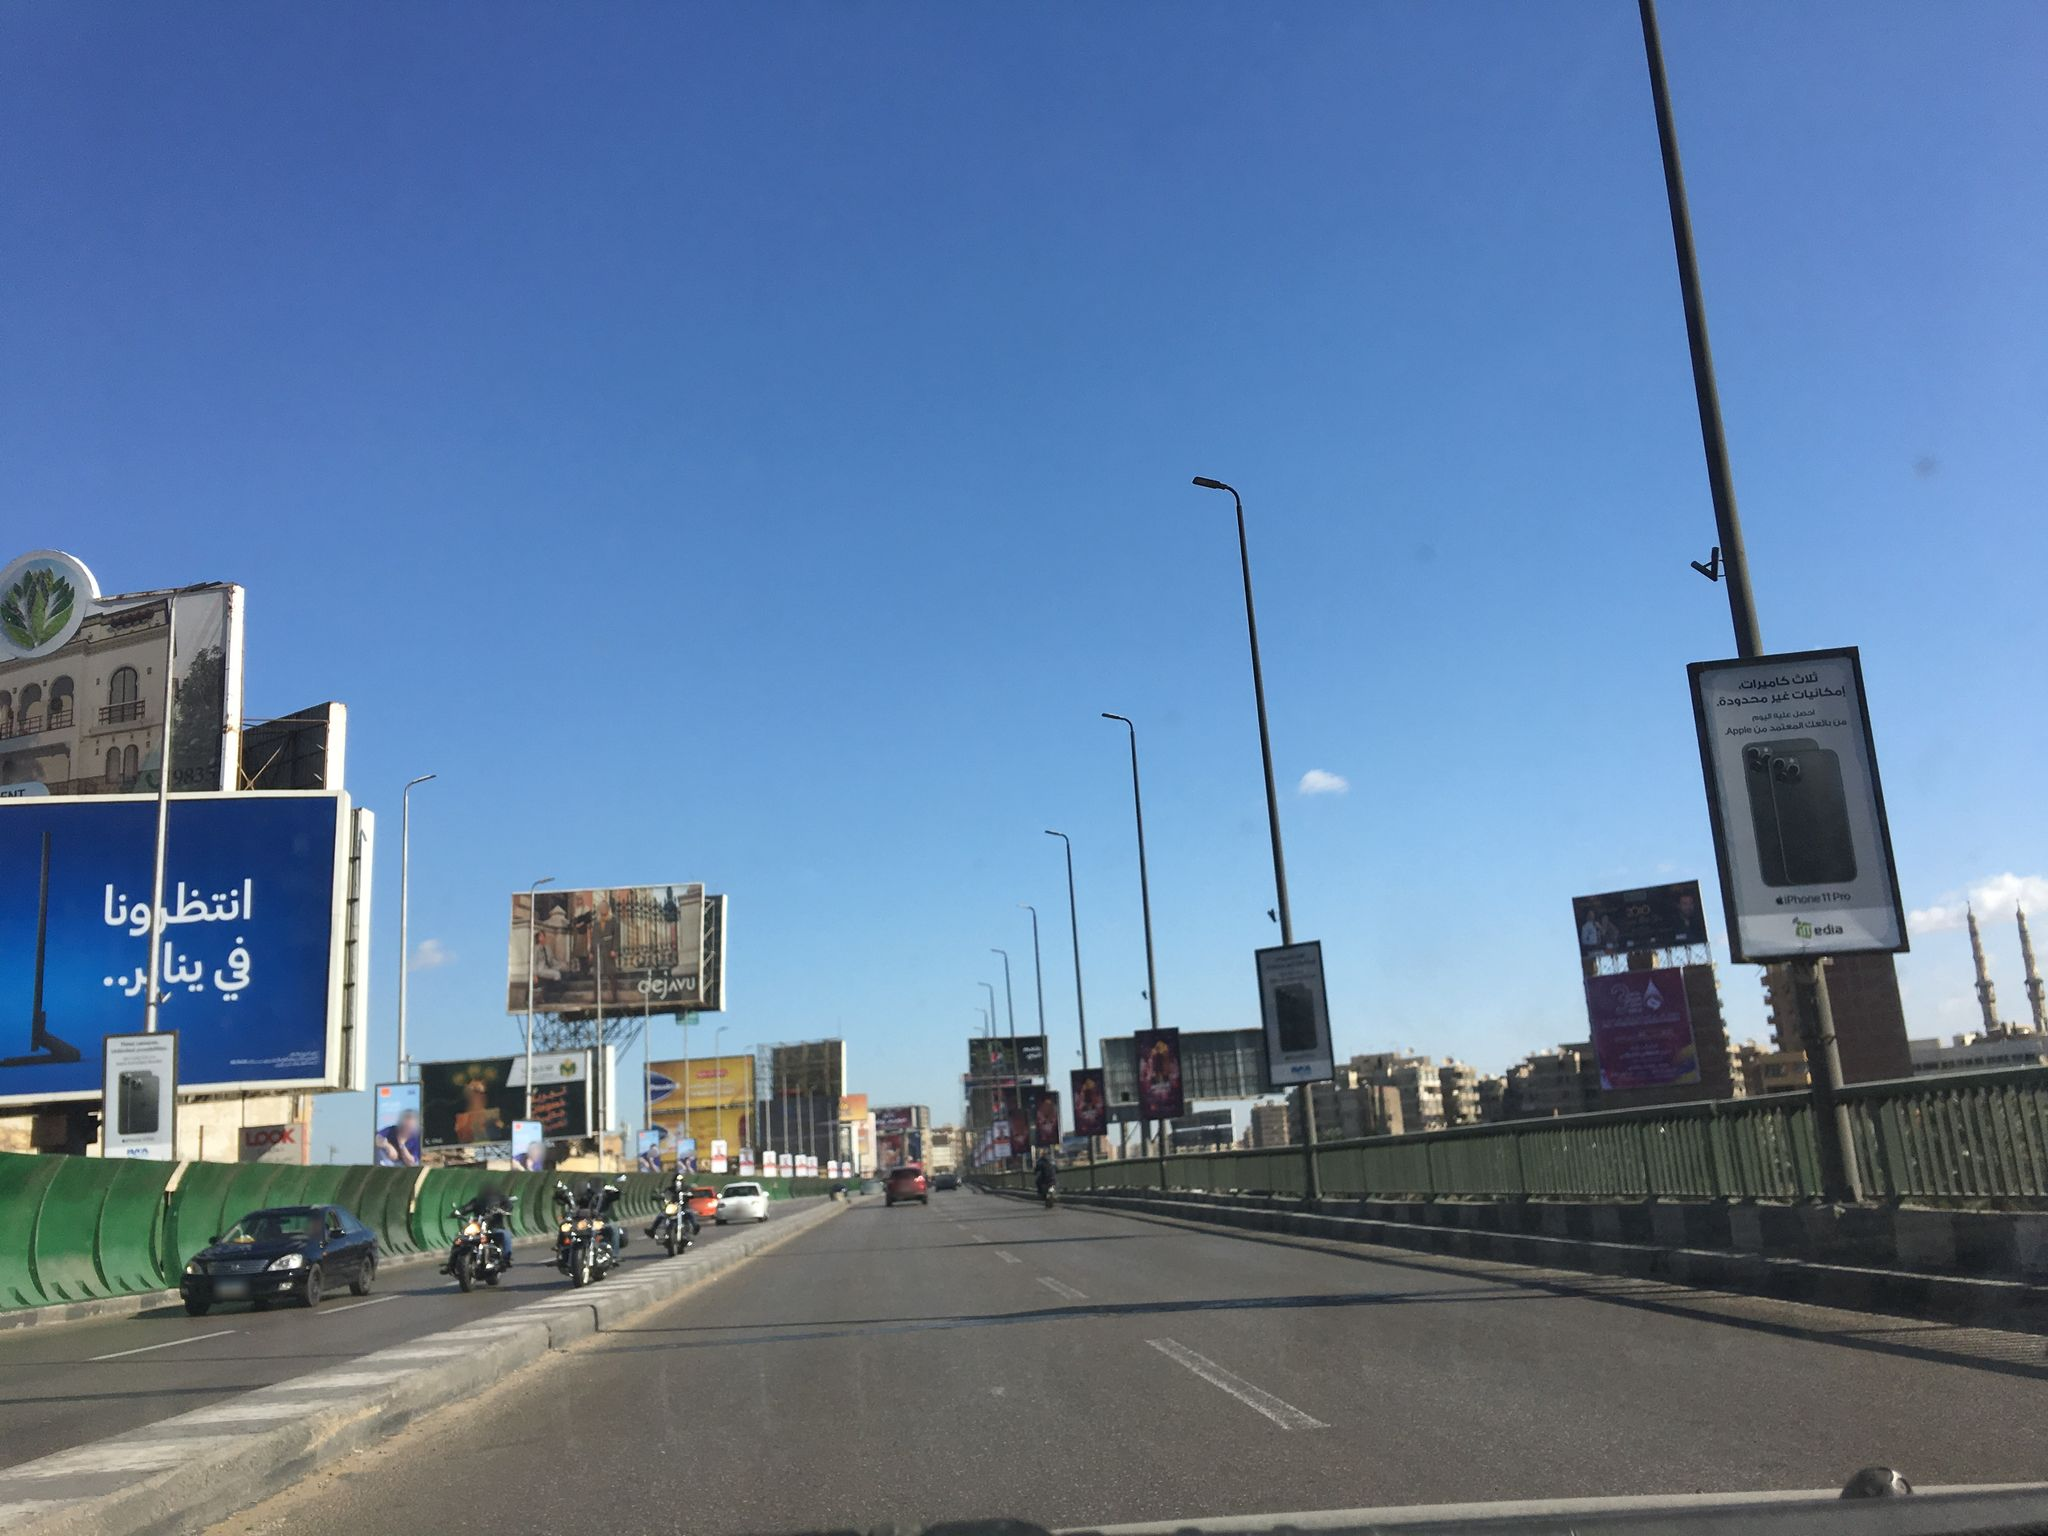car: (179, 1205, 381, 1320), (713, 1179, 769, 1221), (880, 1167, 927, 1205), (689, 1184, 718, 1221)
motorcycle: (548, 1175, 632, 1283), (437, 1199, 518, 1291), (647, 1187, 698, 1255), (1032, 1167, 1058, 1208)
